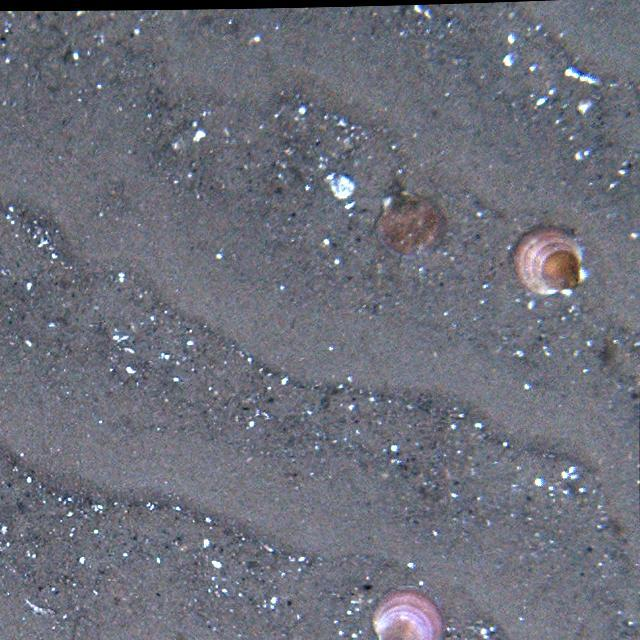scallop: (506, 222, 590, 300), (371, 189, 450, 259), (366, 581, 449, 640)
